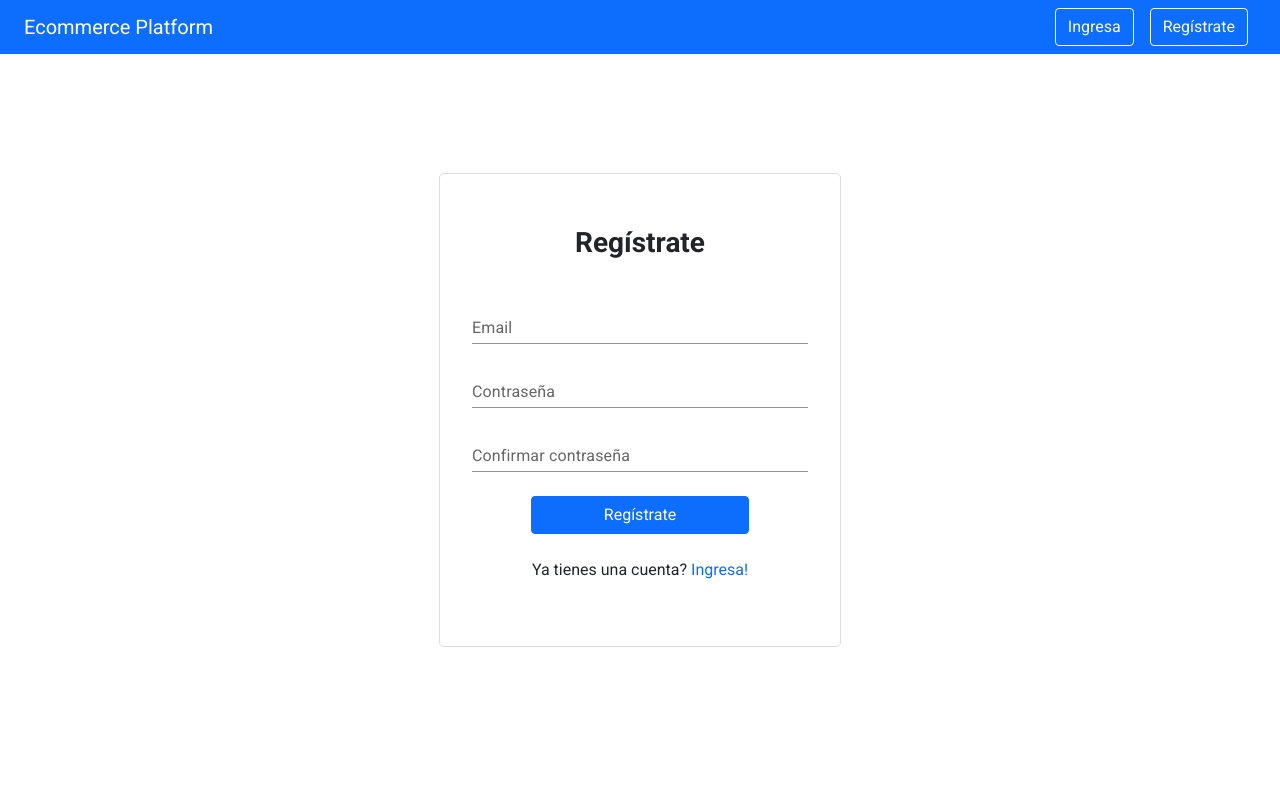
Test: Sign up page › validates form - invalid email
This screenshot has width=1280, height=800.
In the field labelled "Email": x=640, y=328 [472,312,808,344], type "an_email"
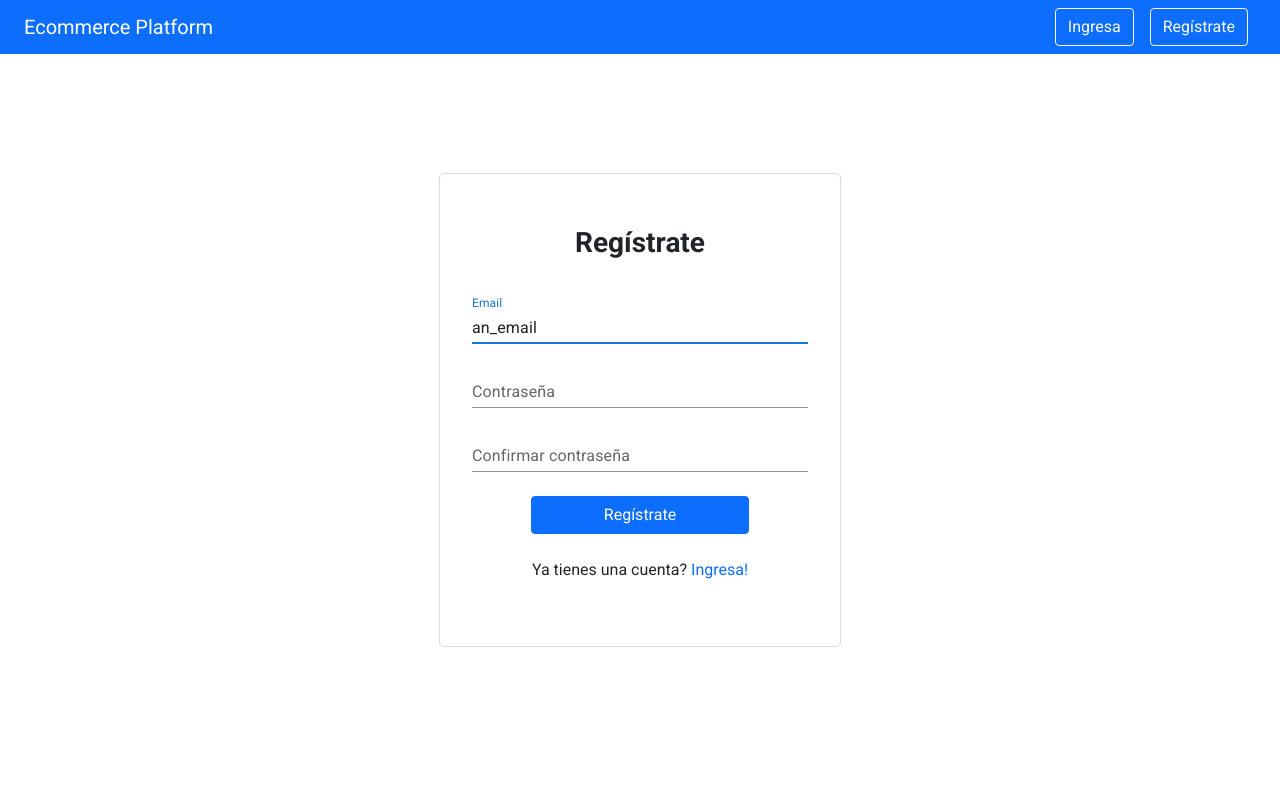
Click the button "Regístrate" below "Confirmar contraseña": x=640, y=515 [531,496,749,534]
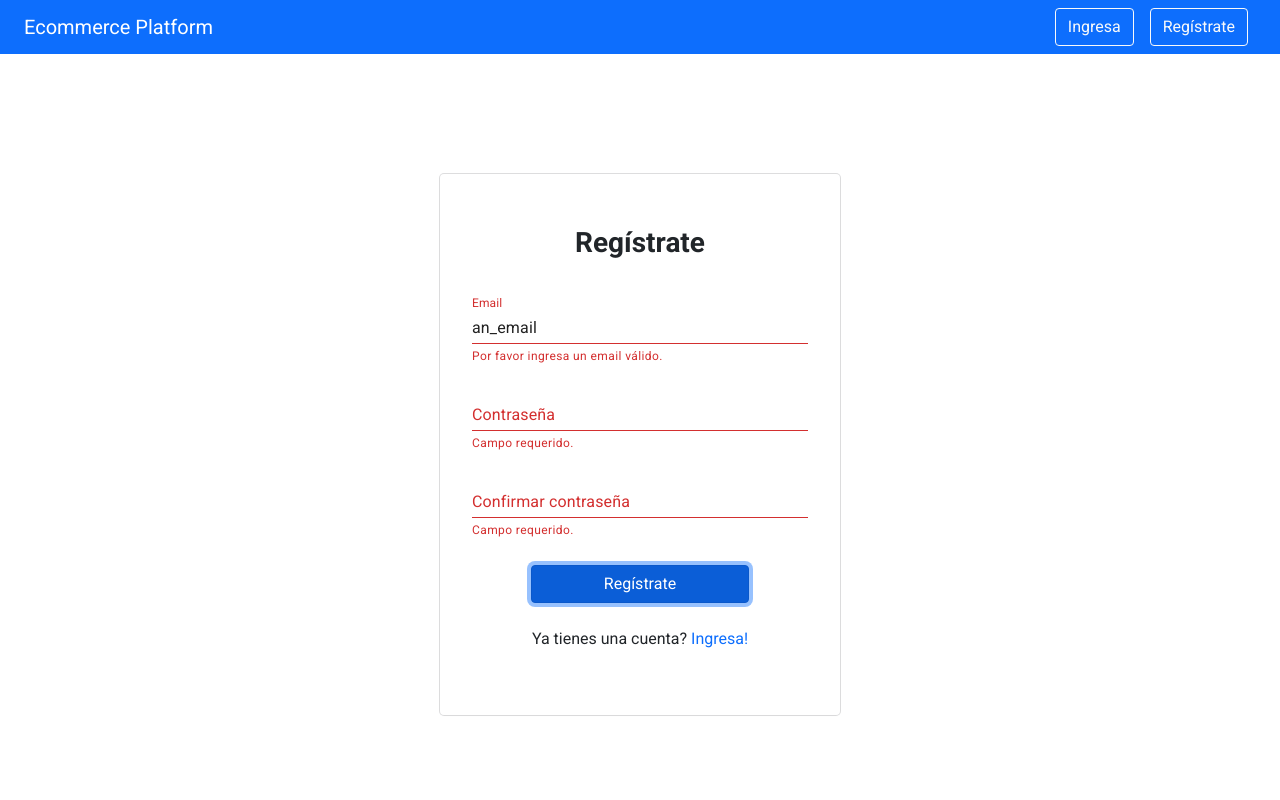
Expected: the text "Por favor ingresa un email válido." is shown, [472,349,663,363]
